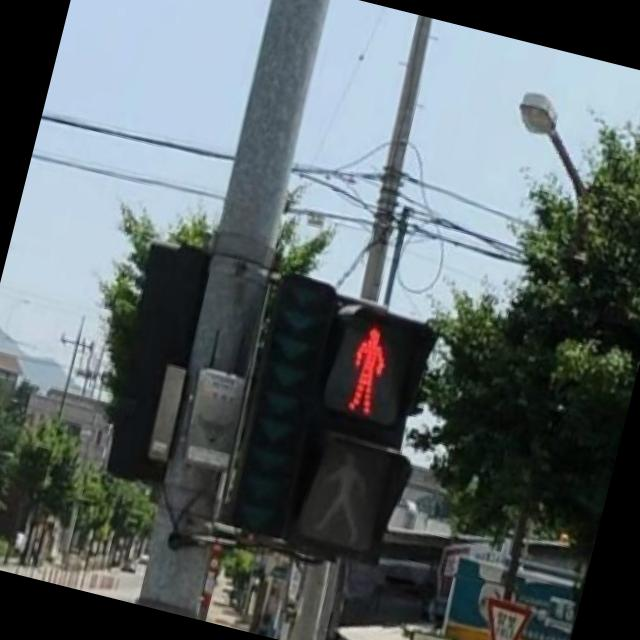red_light: (327, 318, 412, 426)
